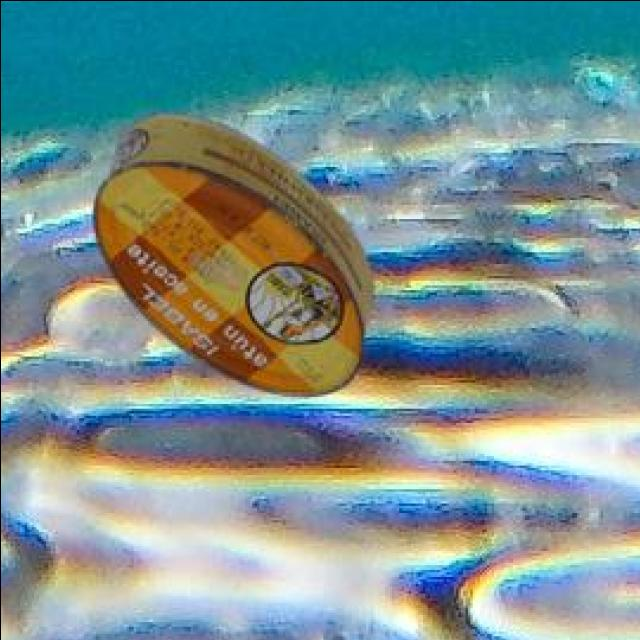logam: (98, 115, 376, 399)
